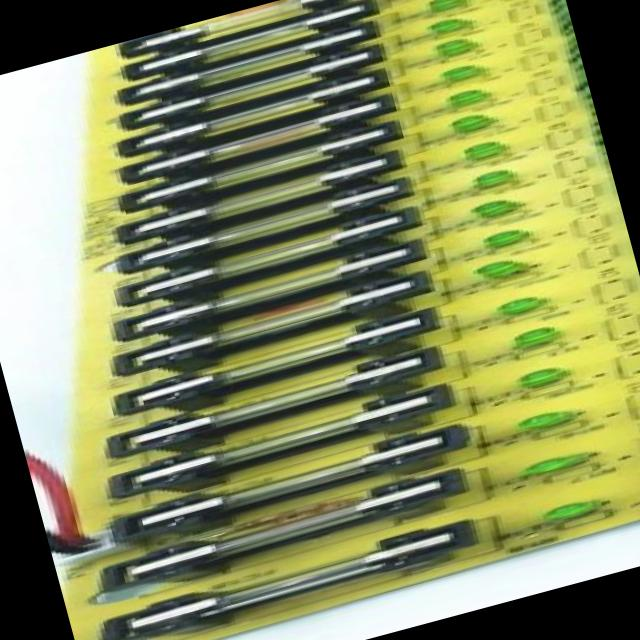LED: (490, 391, 600, 444), (518, 484, 624, 534), (512, 438, 612, 491), (484, 316, 586, 362), (453, 154, 550, 202), (499, 356, 582, 400), (482, 283, 560, 329), (456, 186, 536, 230), (468, 216, 551, 258), (466, 248, 546, 291), (432, 106, 511, 146), (410, 26, 489, 65), (408, 6, 484, 44), (424, 54, 497, 92), (460, 130, 525, 172), (434, 78, 502, 115), (417, 0, 491, 18)
